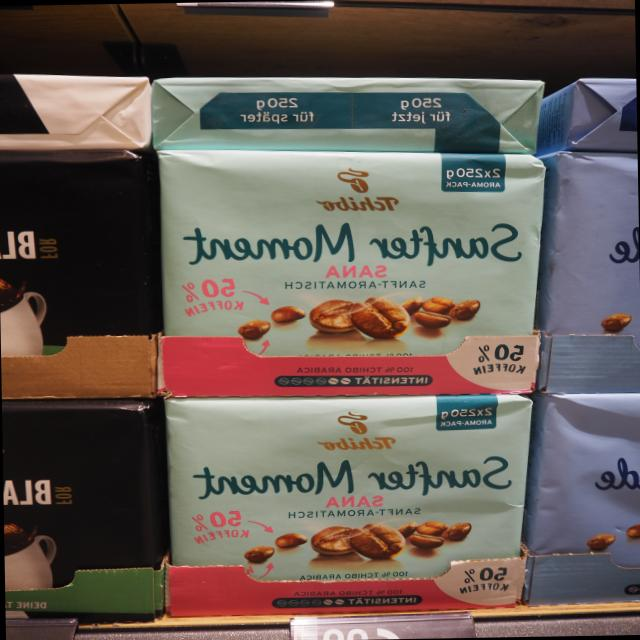BM Gemahlen: (4, 151, 158, 400)
BW Gemahlen: (1, 401, 162, 611)
SM Gemahlen: (154, 147, 550, 397), (162, 394, 534, 617)
